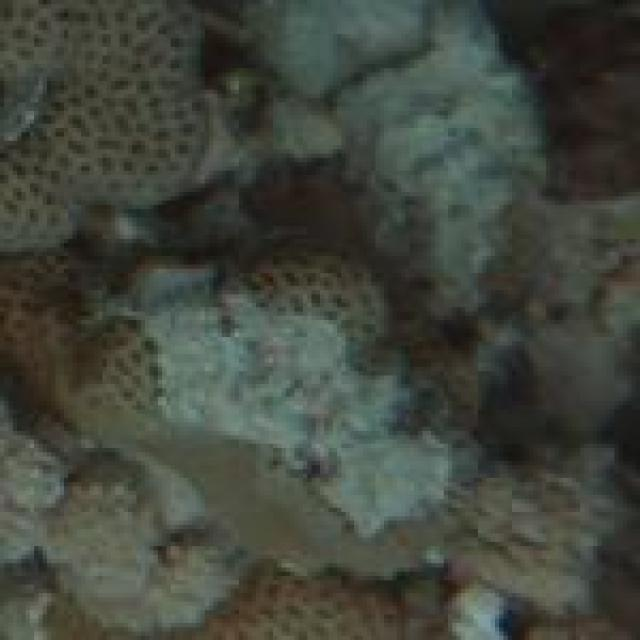Healthy Coral: (1, 0, 241, 255), (3, 263, 171, 443), (169, 561, 460, 640), (243, 251, 408, 343)
